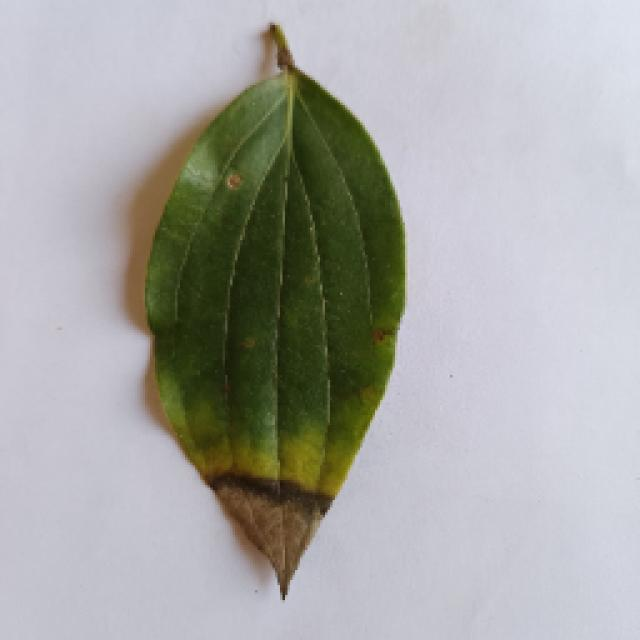footrot: (140, 38, 408, 600)
